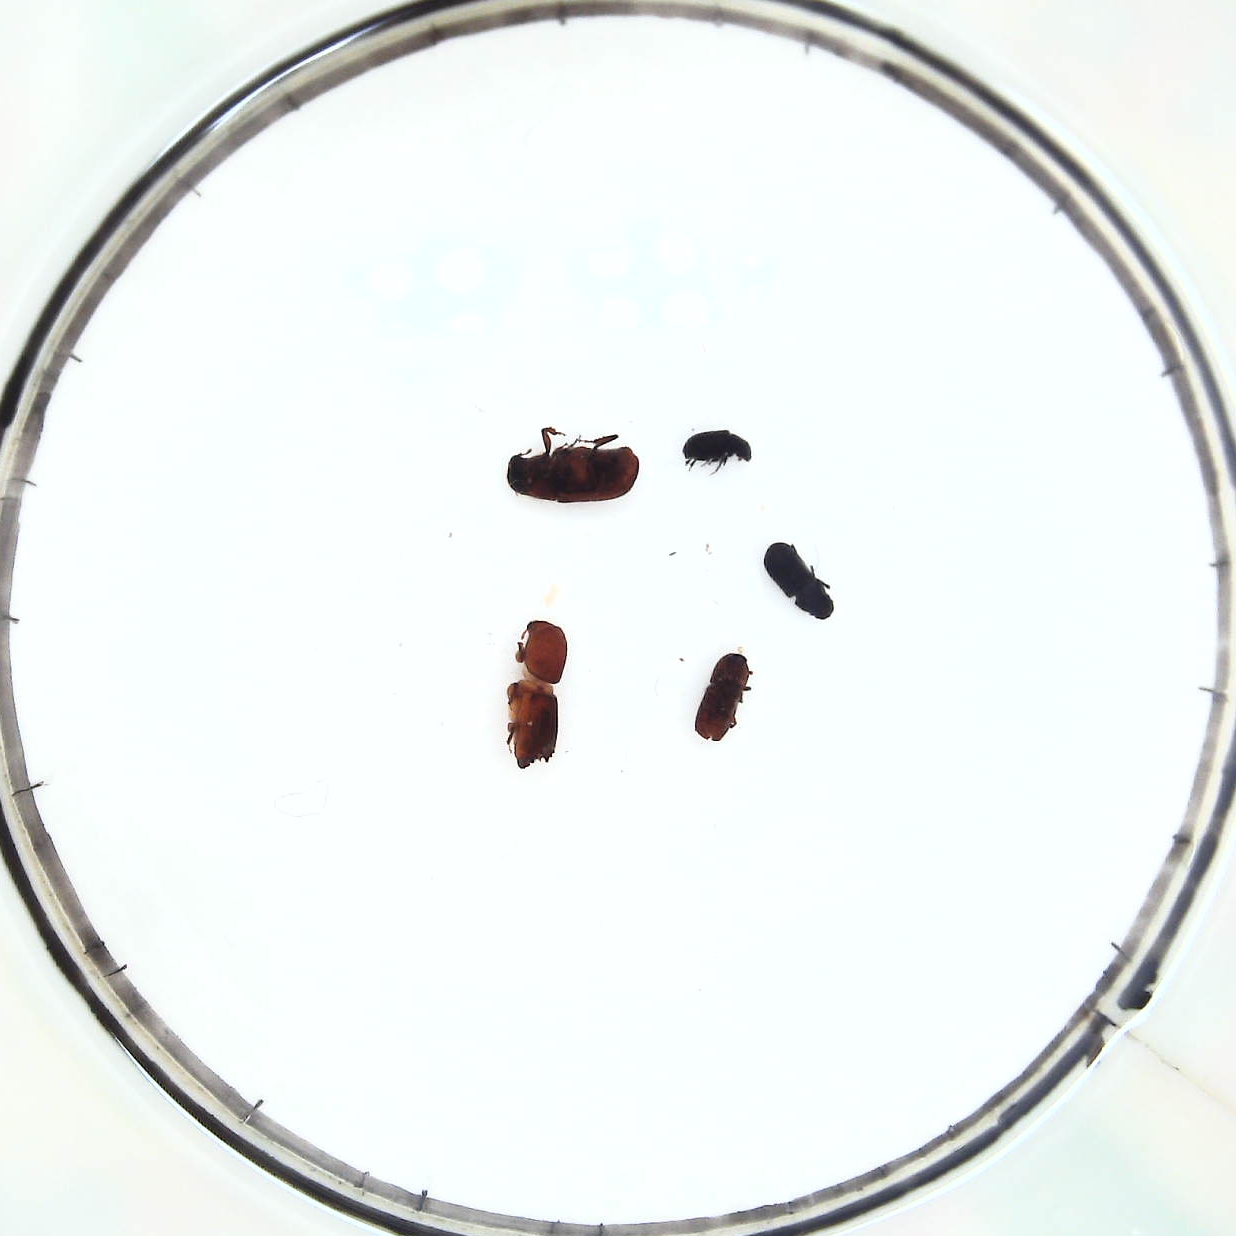Boerner: (508, 616, 565, 771)
Leconte: (504, 426, 640, 505)
Linnaeus: (696, 650, 750, 741)
armandi: (763, 538, 835, 623)
coleoptera: (680, 428, 752, 471)
